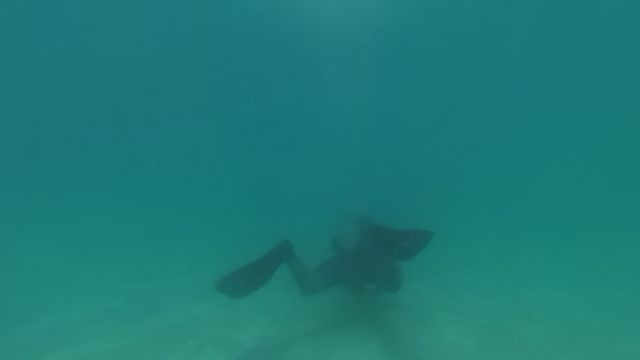Diver: (208, 166, 457, 330)
